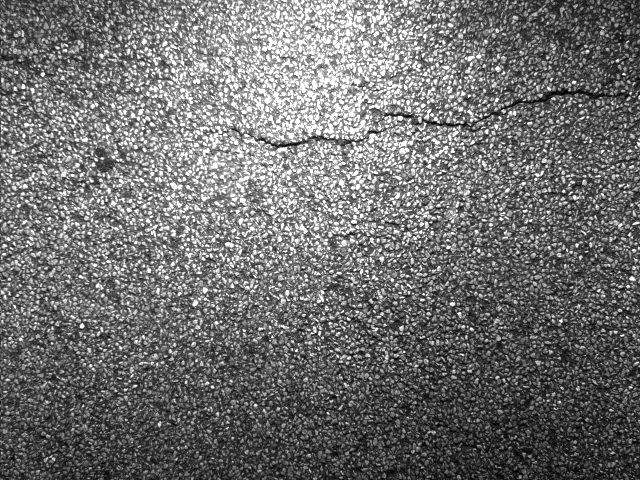crack: (218, 105, 473, 152), (457, 86, 640, 129)
